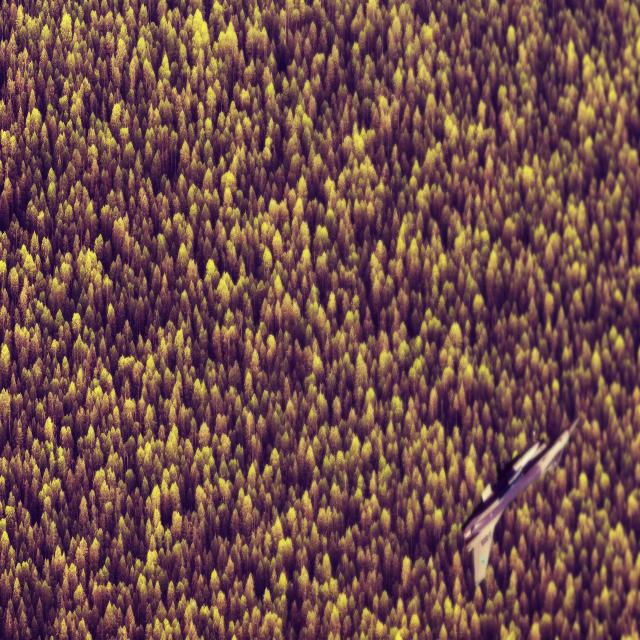airplane: (460, 415, 580, 586)
